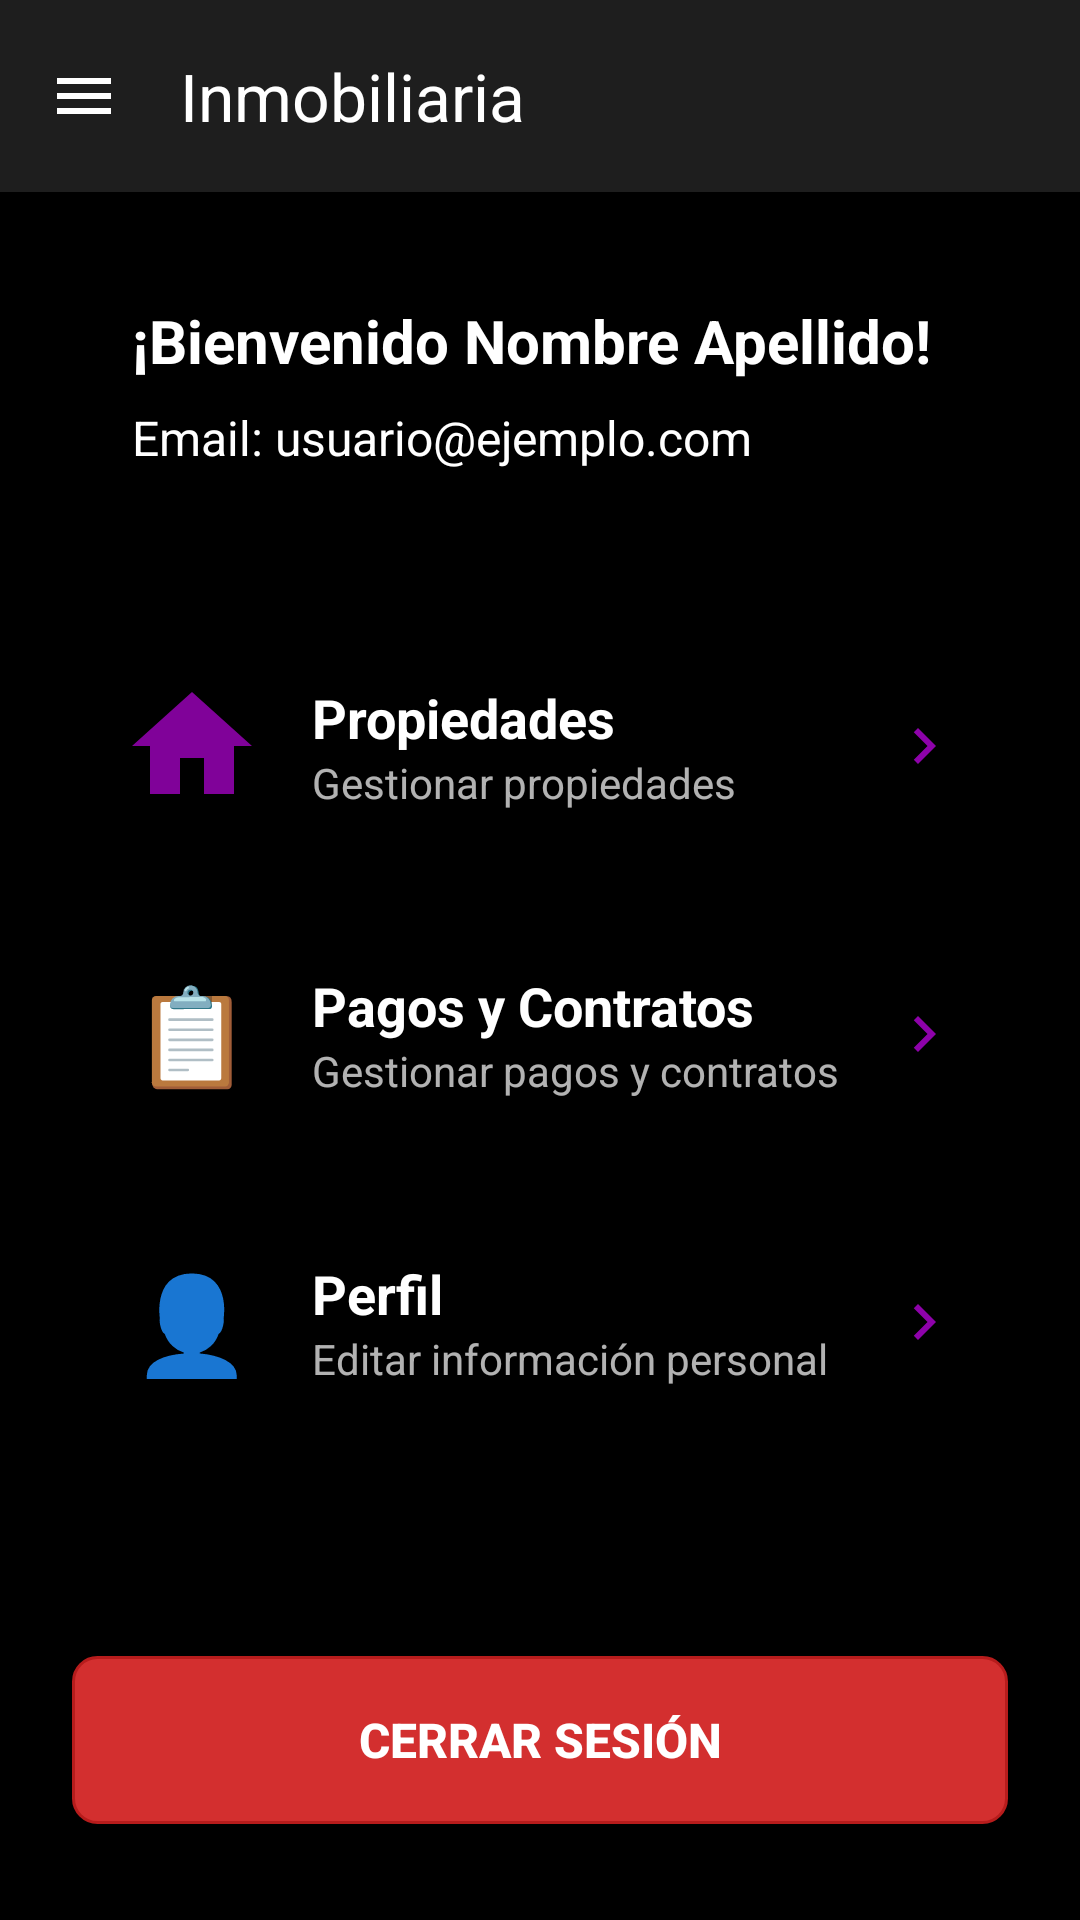

Icons on this 1080*1920 Android screen, each with its box as (x1, y1, x2, y2):
arrow right: (914, 728, 936, 764), (914, 1016, 936, 1052), (914, 1304, 936, 1340)
home: (132, 692, 252, 794)
